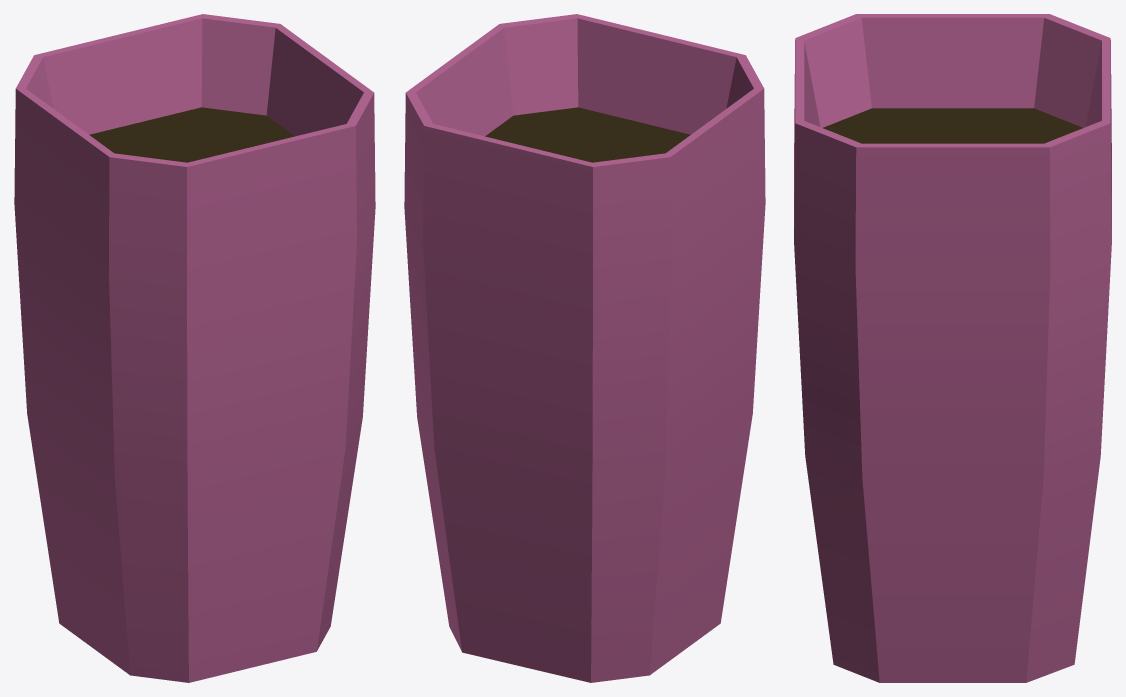
Rendered from PlantPot-Large_01.fbx.
3 views of the same model, side by side, from view 1: azimuth 30°, elevation 25°; view 2: azimuth 150°, elevation 25°; view 3: azimuth 270°, elevation 25° (orthographic). The views are drawn at different scales.
Visible parts, largest first — view 1: PlantPotLarge_01; view 2: PlantPotLarge_01; view 3: PlantPotLarge_01.
Part boxes in pixels (x1=…): PlantPotLarge_01: x1=14, y1=14, x2=375, y2=682; PlantPotLarge_01: x1=404, y1=14, x2=765, y2=682; PlantPotLarge_01: x1=794, y1=14, x2=1111, y2=682.
Size of the model in its own units: 0.3374 by 0.6579 by 0.3374.
